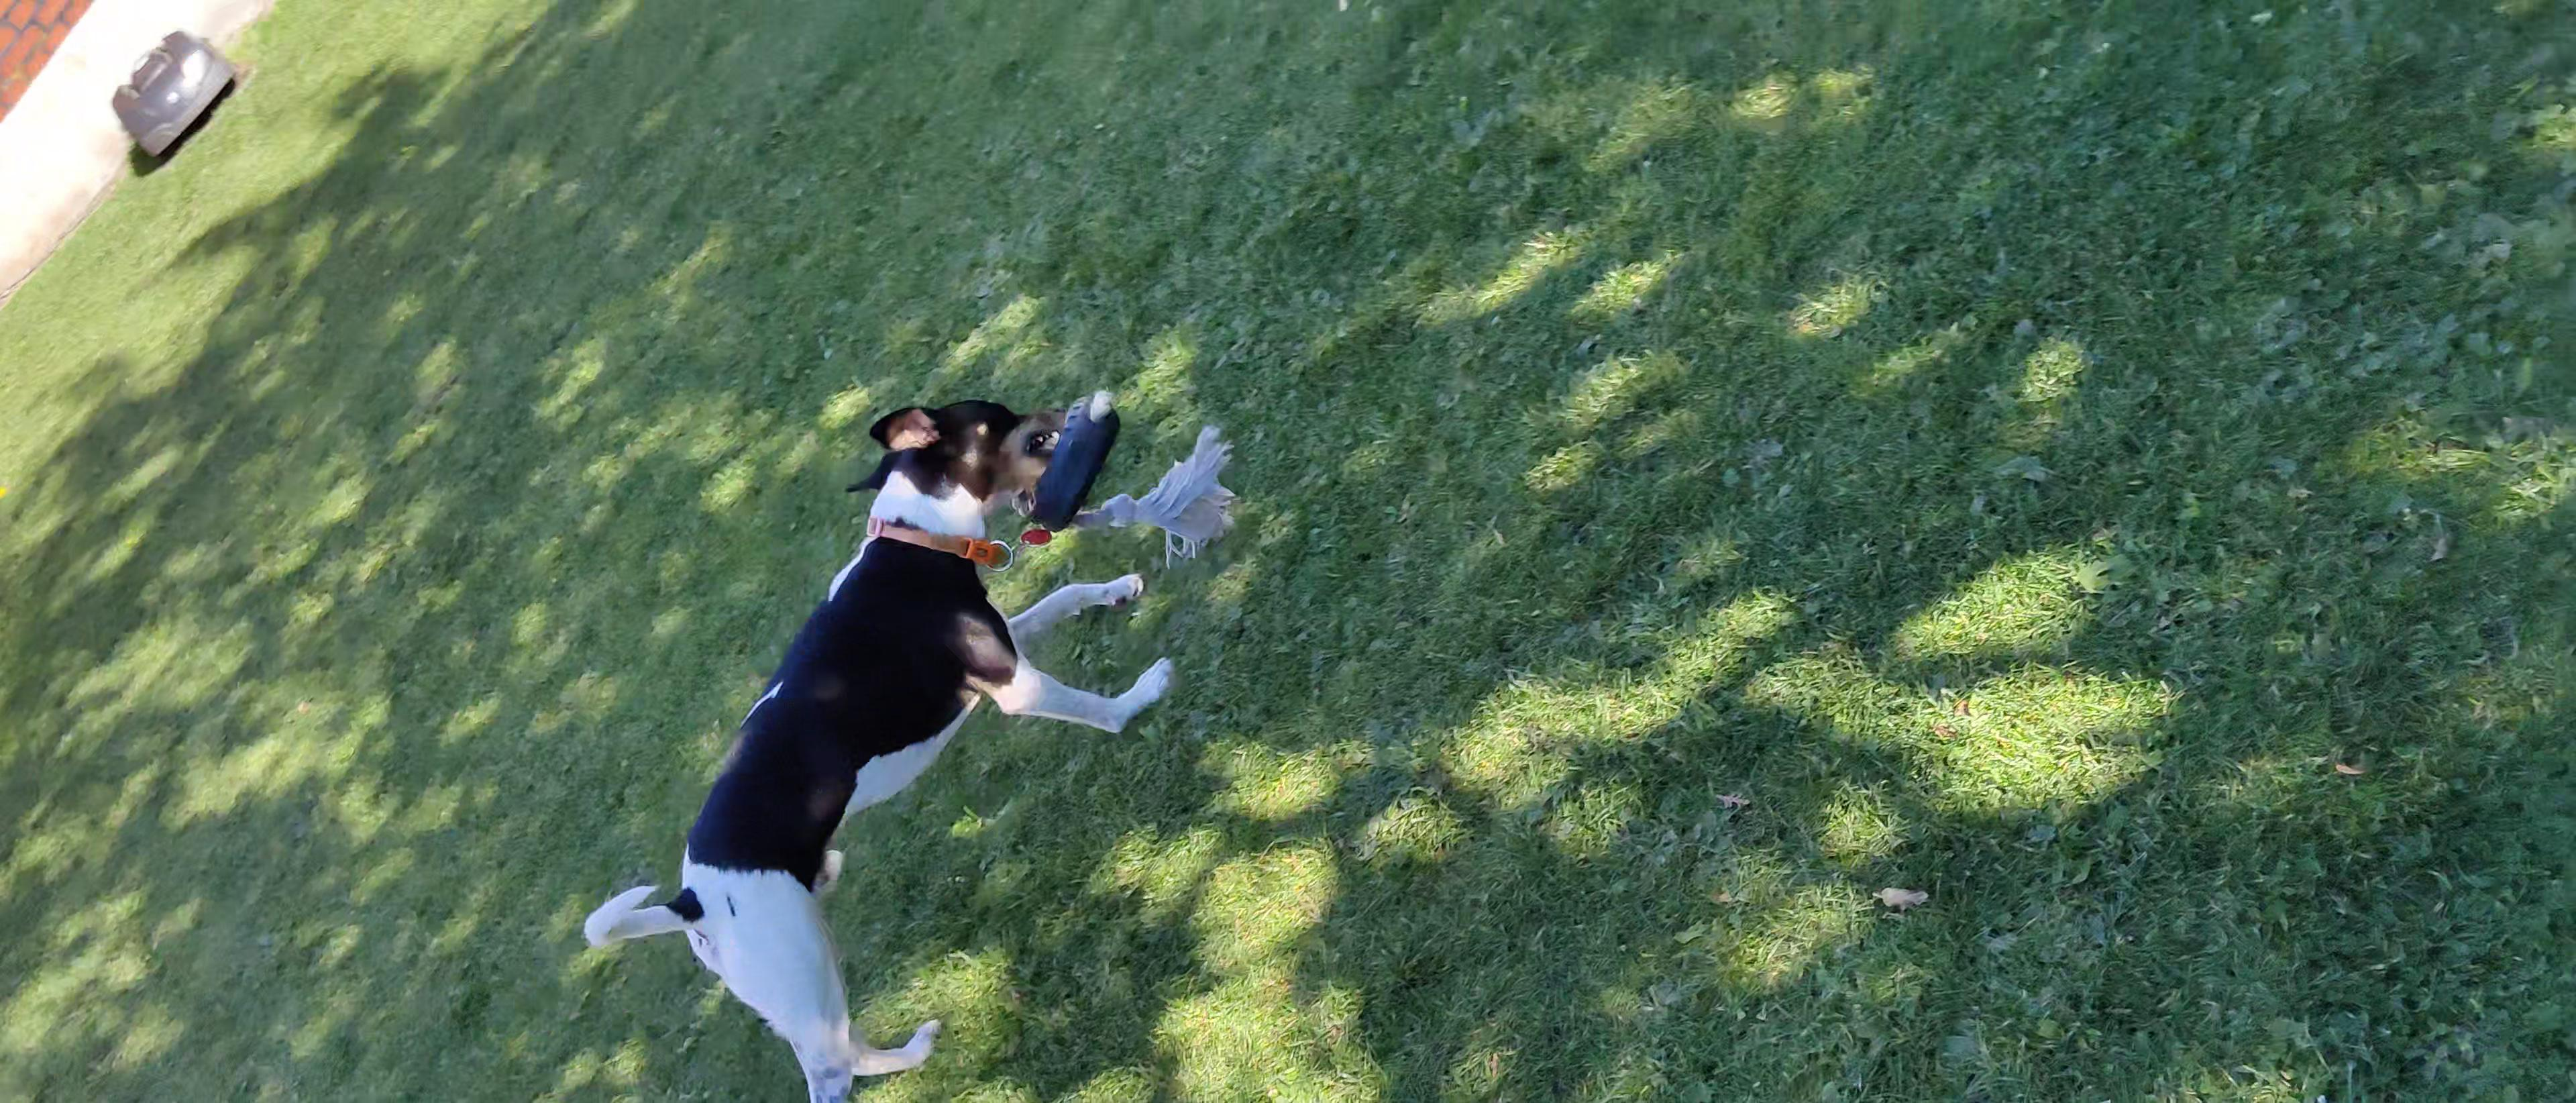Dog: (575, 398, 1176, 1103)
